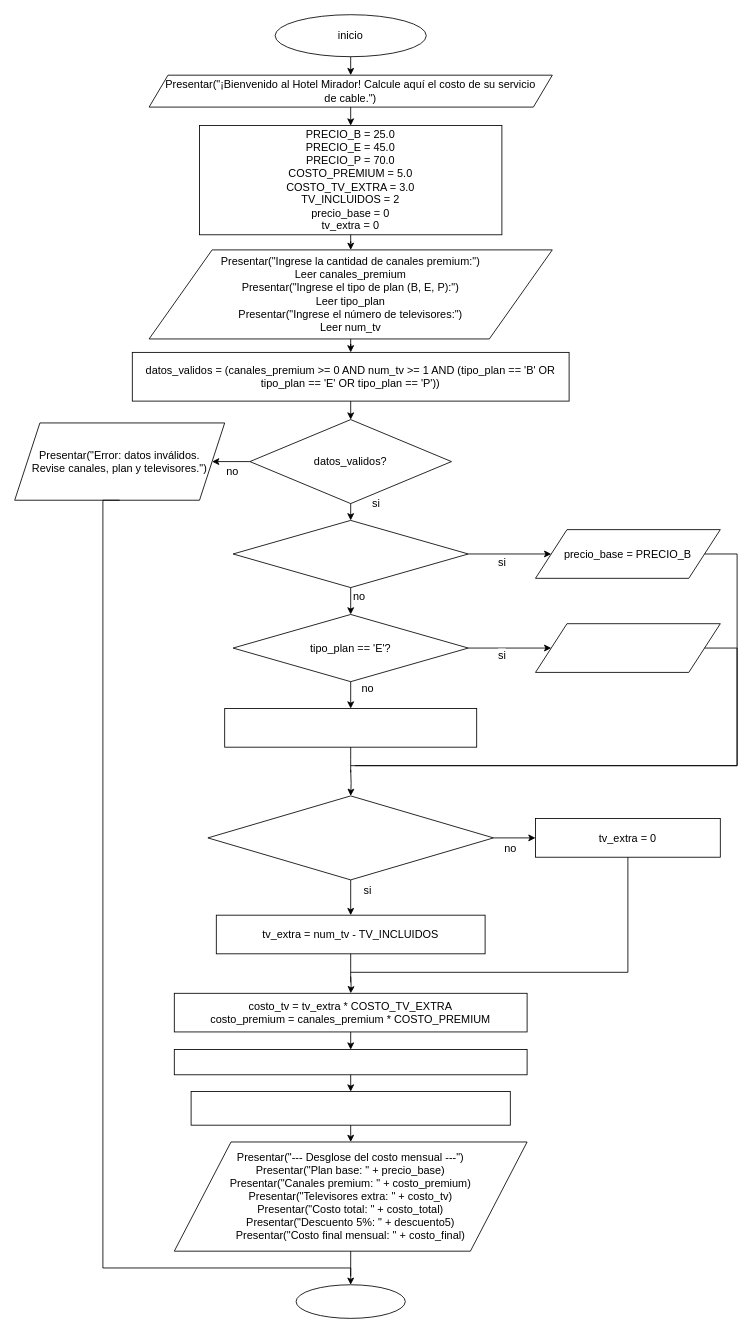
Some shapes in this 753 by 1333 pixel diagram are drawn without their labels. The shapes that lost their labels are listed below. From the top down, each one's centre as x and y in pixels, then its label:
(350,554): tipo_plan == 'B'?
(627,647): precio_base = PRECIO_E
(350,727): precio_base = PRECIO_P
(350,837): num_tv > TV_INCLUIDOS?
(350,1062): costo_total = precio_base + costo_premium + costo_tv
(350,1108): descuento5 = costo_total * 0.05 costo_final = costo_total - descuento5
(350,1301): fin
